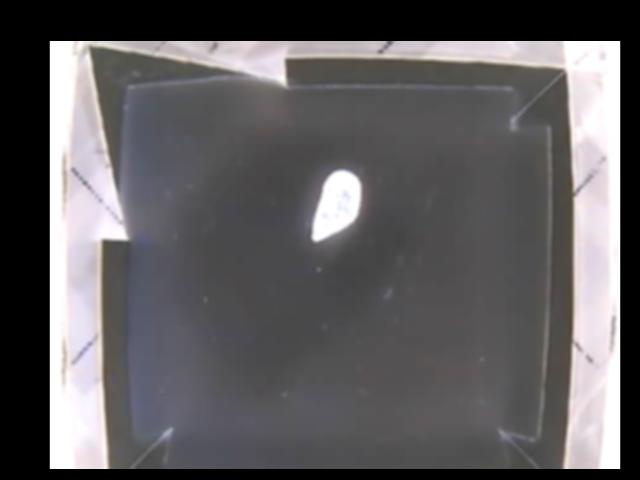Shell: (310, 170, 363, 242)
